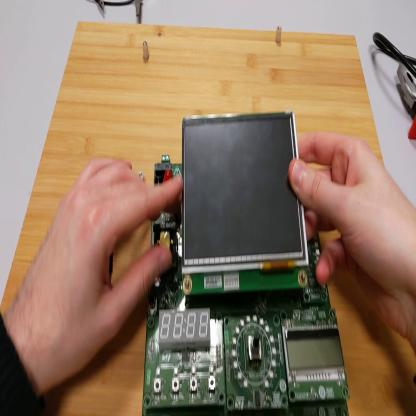hand: (16, 155, 181, 381), (291, 133, 416, 336)
low voltage board: (143, 157, 350, 414)
oscilloscope probe tip: (135, 2, 143, 21)
pliers: (395, 61, 415, 138)
working area: (2, 19, 416, 414)
